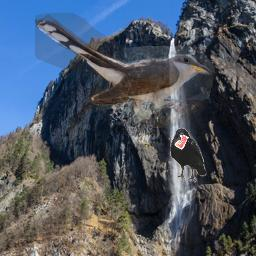Crow: (170, 128, 207, 182)
Cuckoo: (35, 13, 215, 128)
